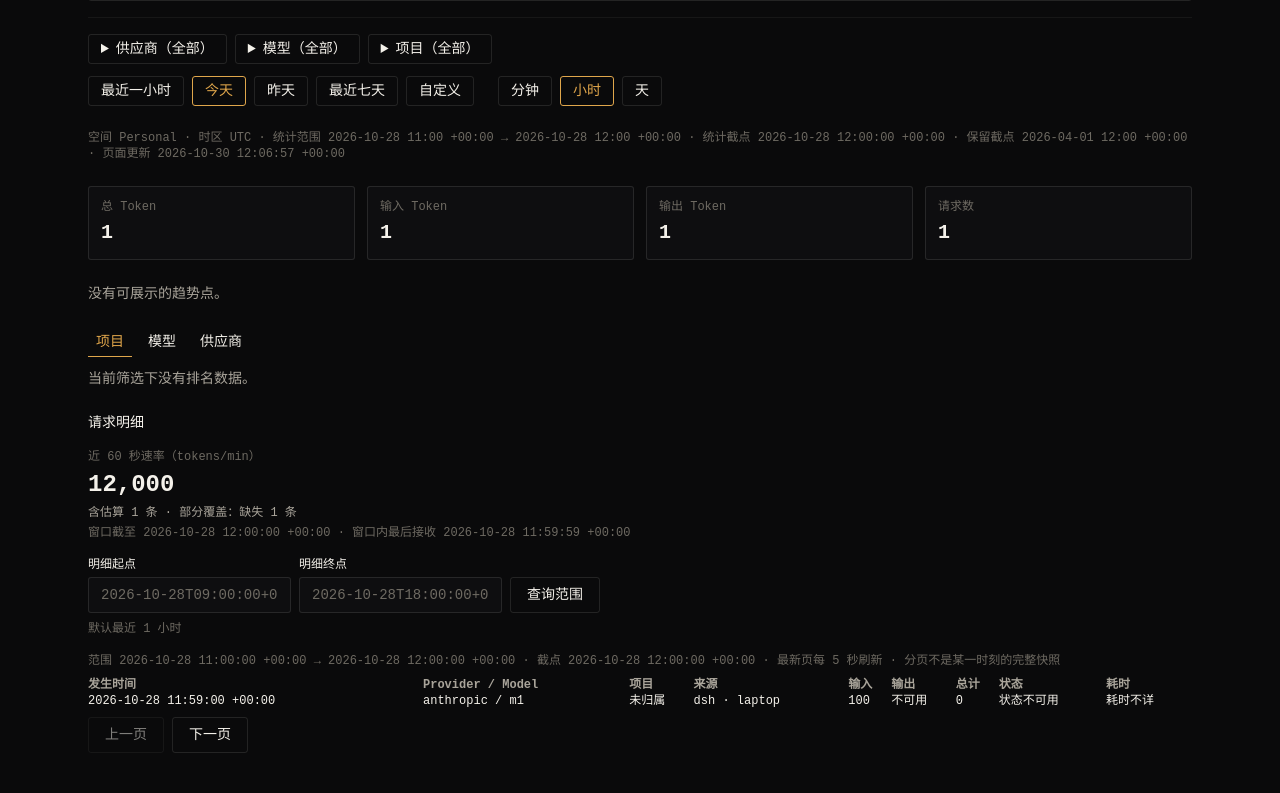
Test case: request log panel › polls both every 5 seconds on the latest page and only the rate on an older page
(page scrolled)
Expected: the row with test id "request-row" is shown, [88,693,1192,709]
Expected: the text "12,000" is shown, [88,471,174,498]
Click the button "下一页": (210, 735) [172,717,248,753]
Wait 15000 ms
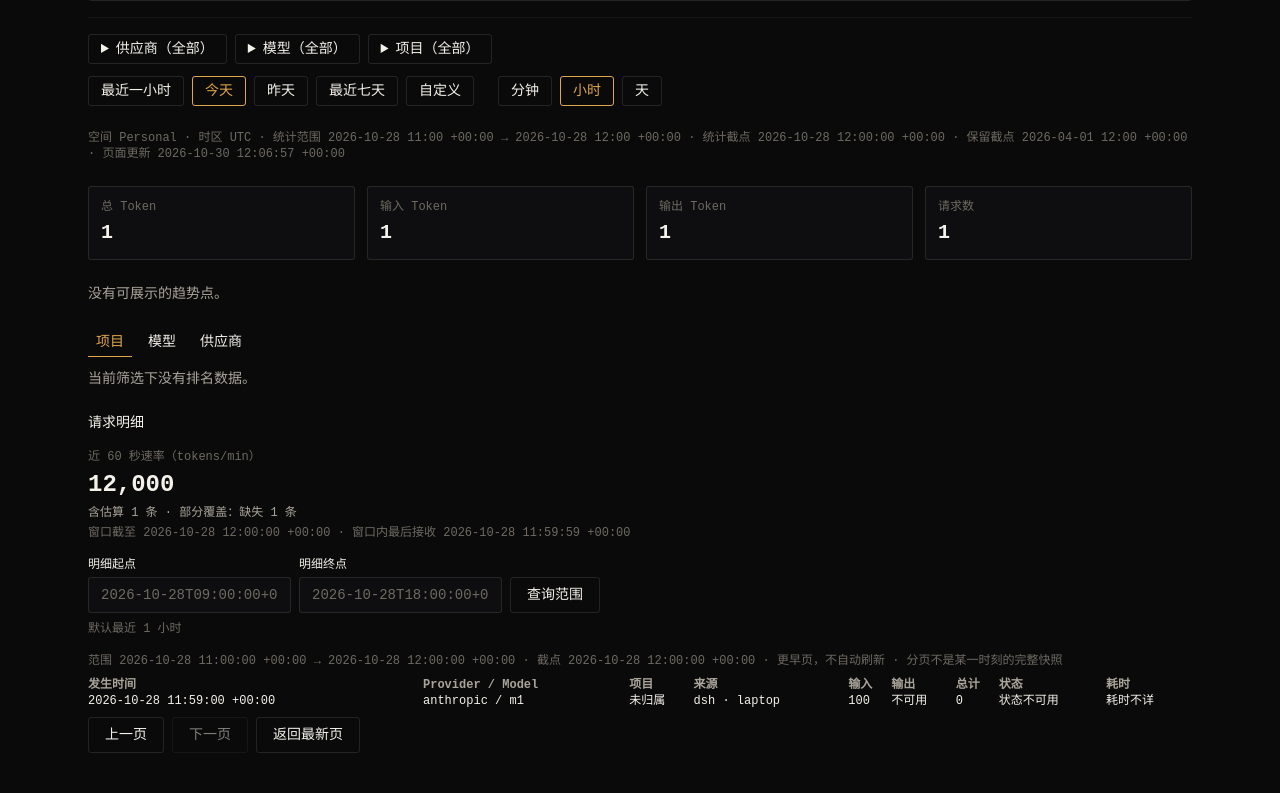
Expected: the text "更早页" is shown, [755,654,885,668]
